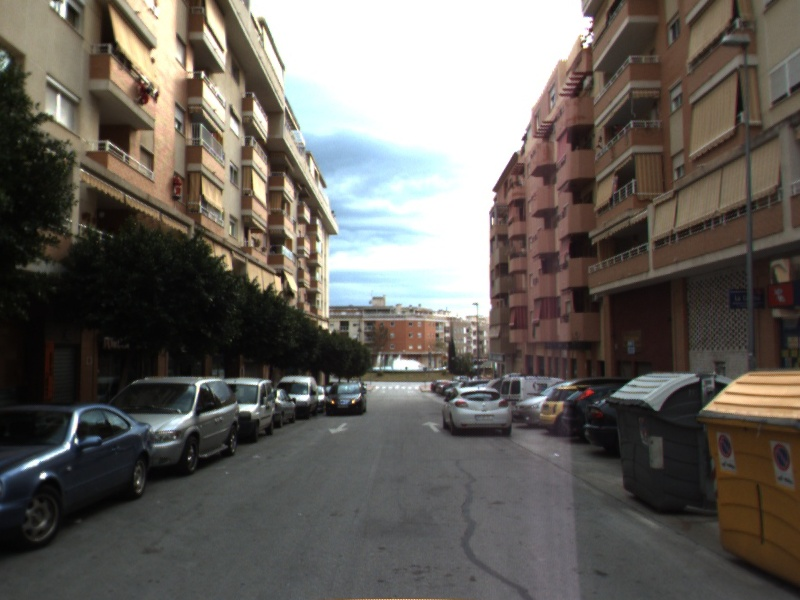STRAIGHT: (420, 419, 443, 434)
